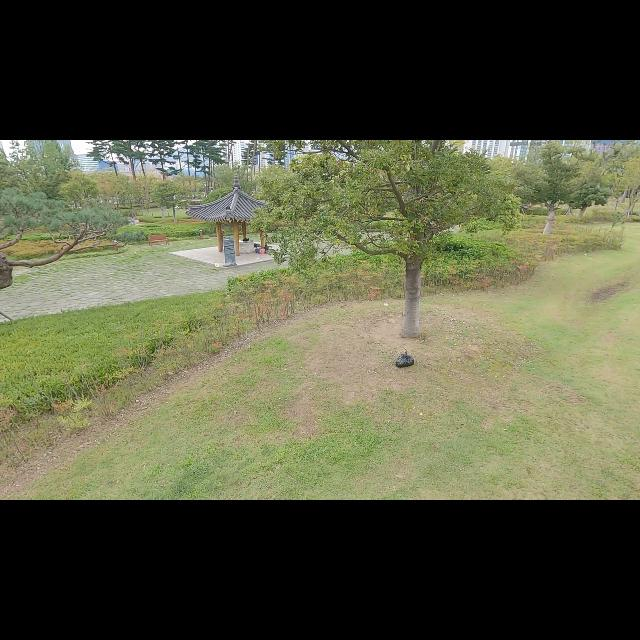trash: (396, 350, 414, 368), (384, 300, 391, 308)
